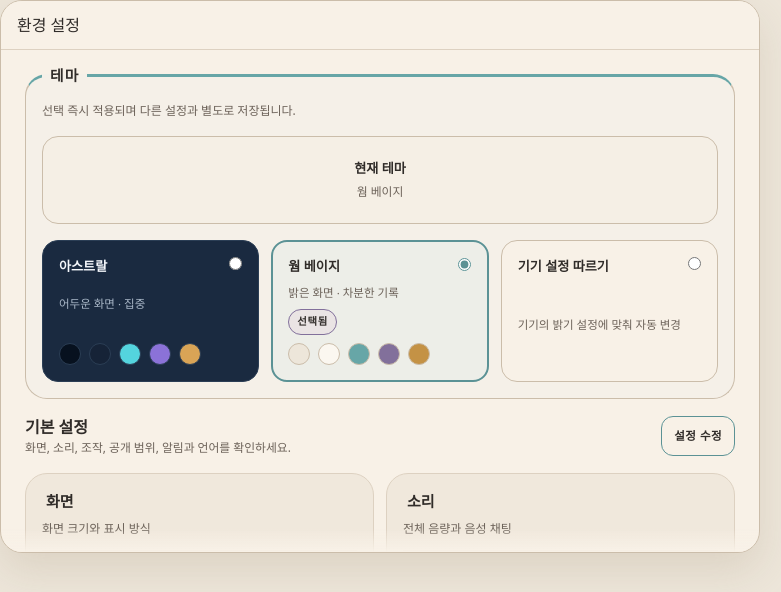
Scenario: System Options surface save timing › keeps the Settings camera stable between summary and edit content
What coordinates should you click on to do the following:
click the button "설정 수정"
I would click on:
 (698, 436)
Its box is [661,416,735,456].
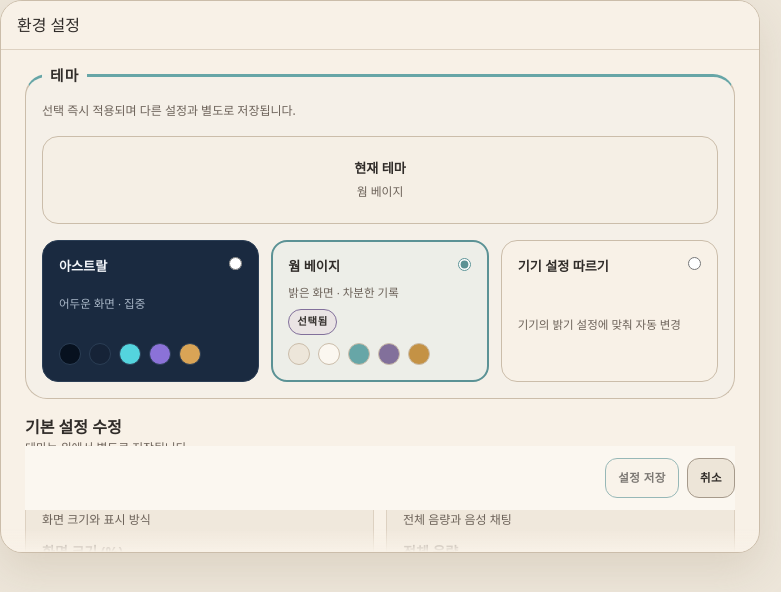
Expected: the button "설정 저장" is shown, [605,458,679,498]
